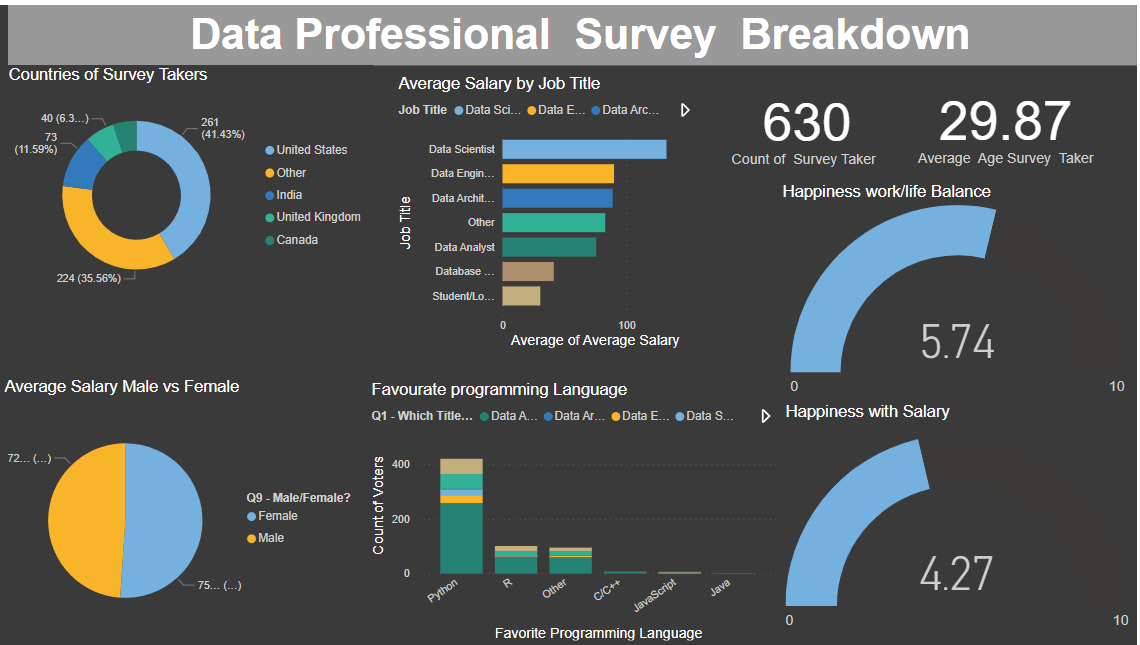

The dashboard page shown, as its layout file describes it:
{"tool":"powerbi","page":{"name":"Page 1","canvas":[1280,720],"ordinal":0},"visuals":[{"type":"textbox","box":[9.7,0,1269.5,68.4],"z":0},{"type":"card","fields":{"Values":["Count(Data Professional Survey.Unique ID)"]},"box":[785.7,74.3,248.2,122.7],"z":1000},{"type":"card","fields":{"Values":["Avg(Data Professional Survey.Q10 - Current Age)"]},"box":[987,73.3,292.2,122.5],"z":2000},{"type":"barChart","title":"Average Salary by Job Title","fields":{"Category":["Data Professional Survey.Q1 - Which Title Best Fits your Current Role?.1"],"Y":["Avg(Data Professional Survey.Average Salary)"],"Series":["Data Professional Survey.Q1 - Which Title Best Fits your Current Role?.1"]},"box":[444.6,77.6,346.9,313.3],"z":3000},{"type":"columnChart","title":"Favourate programming Language","fields":{"Category":["Data Professional Survey.Q5 - Favorite Programming Language.1"],"Y":["CountNonNull(Data Professional Survey.Unique ID)"],"Series":["Data Professional Survey.Q1 - Which Title Best Fits your Current Role?.1"]},"box":[414,421.6,468.5,297.7],"z":4000},{"type":"donutChart","title":"Countries of Survey Takers","fields":{"Category":["Data Professional Survey.Q11 - Which Country do you live in?.1"],"Y":["CountNonNull(Data Professional Survey.Q11 - Which Country do you live in?.1)"]},"box":[5.3,68,415.3,271.7],"z":5000},{"type":"gauge","title":"Happiness work/life  Balance","fields":{"Y":["Avg(Data Professional Survey.Q6 - How Happy are you in your Current Position with the following? (Work/Life Balance))"],"MinValue":["Min(Data Professional Survey.Q6 - How Happy are you in your Current Position with the following? (Work/Life Balance))"],"MaxValue":["Max(Data Professional Survey.Q6 - How Happy are you in your Current Position with the following? (Work/Life Balance))1"]},"box":[876.6,199.4,403.6,245.9],"z":6000},{"type":"gauge","title":"Happiness  with Salary","fields":{"Y":["Avg(Data Professional Survey.Q6 - How Happy are you in your Current Position with the following? (Salary))"],"MinValue":["Min(Data Professional Survey.Q6 - How Happy are you in your Current Position with the following? (Salary))"],"MaxValue":["Max(Data Professional Survey.Q6 - How Happy are you in your Current Position with the following? (Salary))"]},"box":[879.3,447,396,272.3],"z":7000},{"type":"pieChart","title":"Average Salary Male vs Female","fields":{"Category":["Data Professional Survey.Q9 - Male/Female?"],"Y":["Avg(Data Professional Survey.Average Salary)"]},"box":[1,418.3,414.4,302],"z":8000}]}

Visuals, with their boxes in screenshot pixels (x1, y1, x2, y2), scaled from the page's 1280x720 canvas onto the 1140x645 screenshot:
textbox: <box>9,0,1139,61</box>
card - Count(Data Professional Survey.Unique ID): <box>700,67,921,176</box>
card - Avg(Data Professional Survey.Q10 - Current Age): <box>879,66,1139,175</box>
"Average Salary by Job Title" barChart: <box>396,70,705,350</box>
"Favourate programming Language" columnChart: <box>369,378,786,644</box>
"Countries of Survey Takers" donutChart: <box>5,61,375,304</box>
"Happiness work/life  Balance" gauge: <box>781,179,1139,399</box>
"Happiness  with Salary" gauge: <box>783,400,1136,644</box>
"Average Salary Male vs Female" pieChart: <box>1,375,370,644</box>
